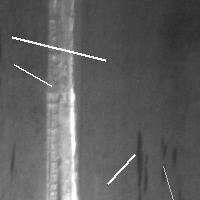scratches: (42, 1, 76, 199), (7, 32, 110, 65), (9, 59, 56, 90), (102, 150, 139, 189), (133, 129, 150, 193), (158, 161, 185, 200), (159, 134, 178, 184), (7, 145, 20, 179)
